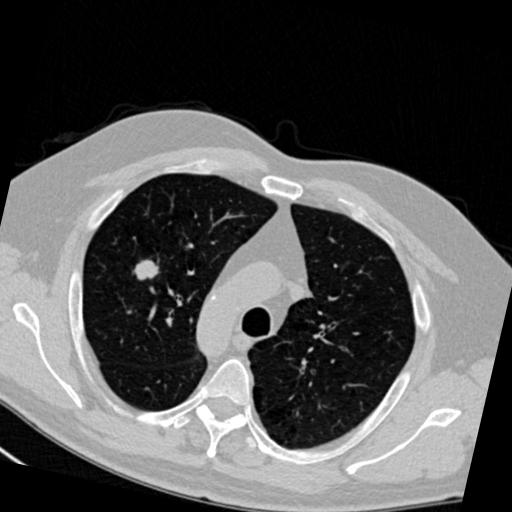nodule: (133, 255, 165, 287)
